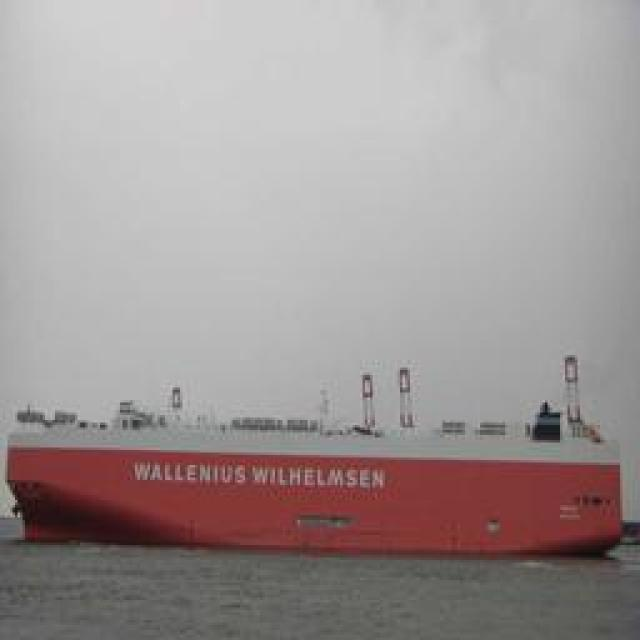CIV_Ship: (5, 342, 635, 566)
